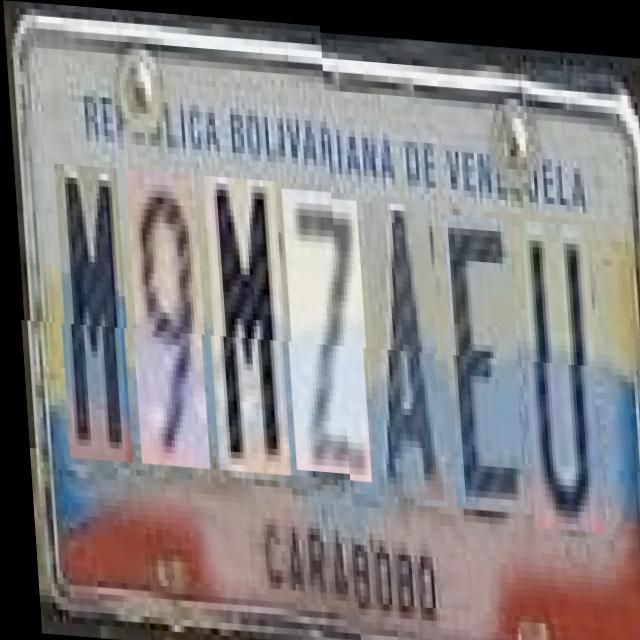9: (124, 173, 208, 472)
A: (360, 195, 440, 494)
E: (438, 207, 522, 506)
M: (202, 178, 288, 478), (52, 170, 130, 468)
U: (516, 212, 600, 523)
Z: (280, 190, 368, 476)
